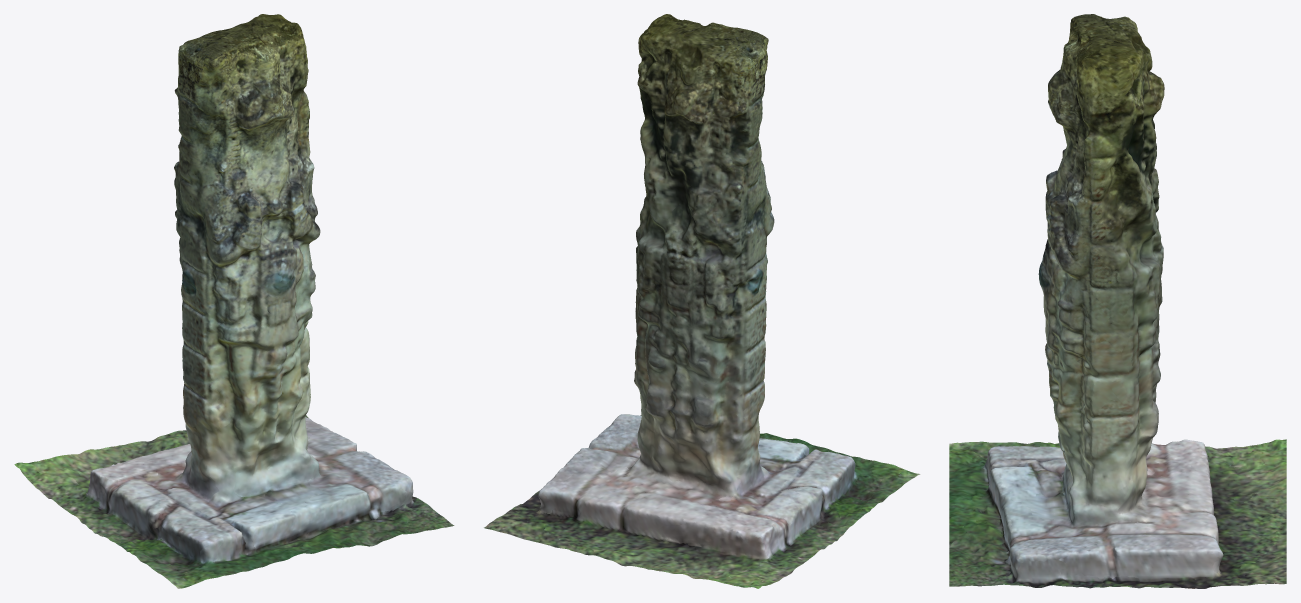
File: stela_copan.glb
3 views of the same model, side by side, from view 1: azimuth 30°, elevation 25°; view 2: azimuth 150°, elevation 25°; view 3: azimuth 270°, elevation 25° (orthographic). The views are drawn at different scales.
Visible parts, largest first — view 1: Object_3, Object_2, Object_4; view 2: Object_3, Object_2, Object_4; view 3: Object_3, Object_2.
Boxes of the visible parts, x1,y1,x2,y2 form: Object_3: (14,15,451,584); Object_2: (89,14,454,588); Object_4: (111,531,261,572); Object_3: (522,14,908,588); Object_2: (484,19,920,555); Object_4: (805,453,883,529); Object_3: (949,14,1286,588); Object_2: (949,18,1286,588).
Bounding box in the file's own units: 2.35 × 3.86 × 2.42.
Materials: 1 (1 with a texture image).
